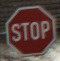stopsign: (6, 6, 55, 57)
